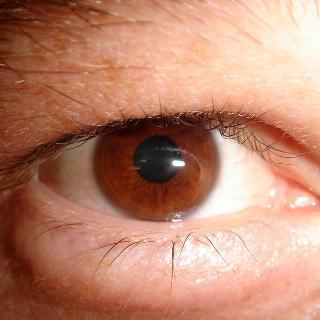iris: (92, 94, 222, 224)
